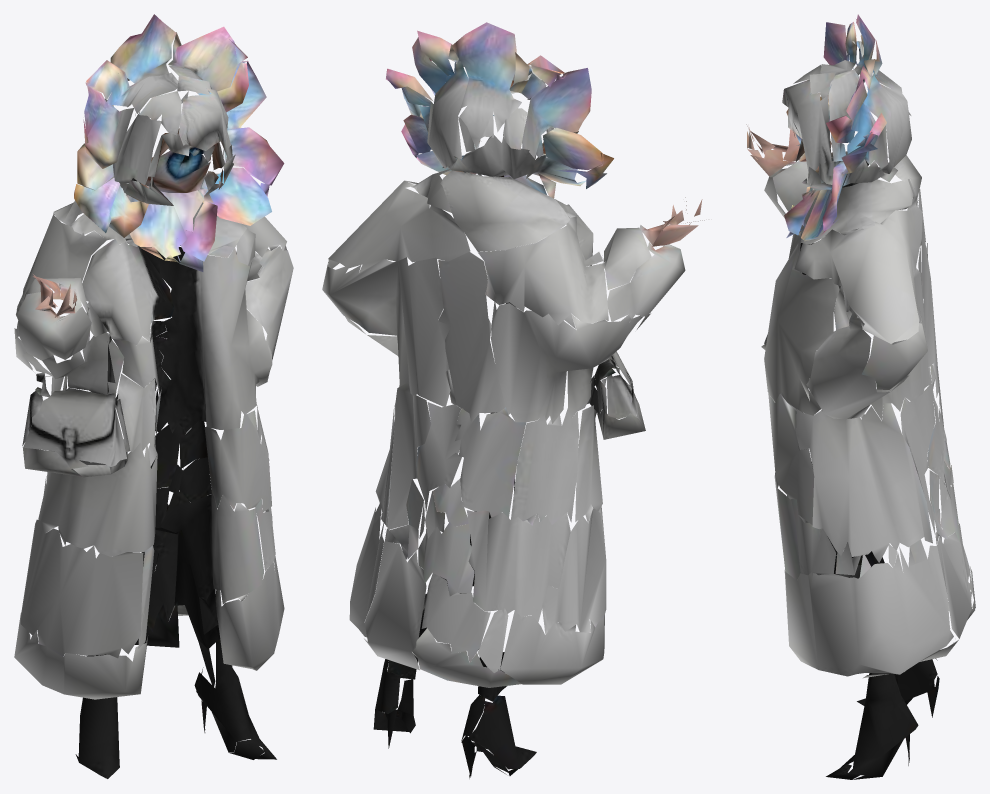
The model's file is crowd_editor_full.glb.
3 renders of one model, left to right at view 1: azimuth 30°, elevation 25°; view 2: azimuth 150°, elevation 25°; view 3: azimuth 270°, elevation 25°, orthographic. The views are drawn at different scales.
Visible parts, largest first — view 1: tripo_node_bf9fb8a6-23f6-4862-ac37-375ab1056567; view 2: tripo_node_bf9fb8a6-23f6-4862-ac37-375ab1056567; view 3: tripo_node_bf9fb8a6-23f6-4862-ac37-375ab1056567.
Boxes of the visible parts, x1,y1,x2,y2 form: tripo_node_bf9fb8a6-23f6-4862-ac37-375ab1056567: (14,14,293,778); tripo_node_bf9fb8a6-23f6-4862-ac37-375ab1056567: (322,22,704,778); tripo_node_bf9fb8a6-23f6-4862-ac37-375ab1056567: (746,14,975,779).
Size of the model in its own units: 0.4508 by 1 by 0.2923.
Materials: 1 (1 with a texture image).
